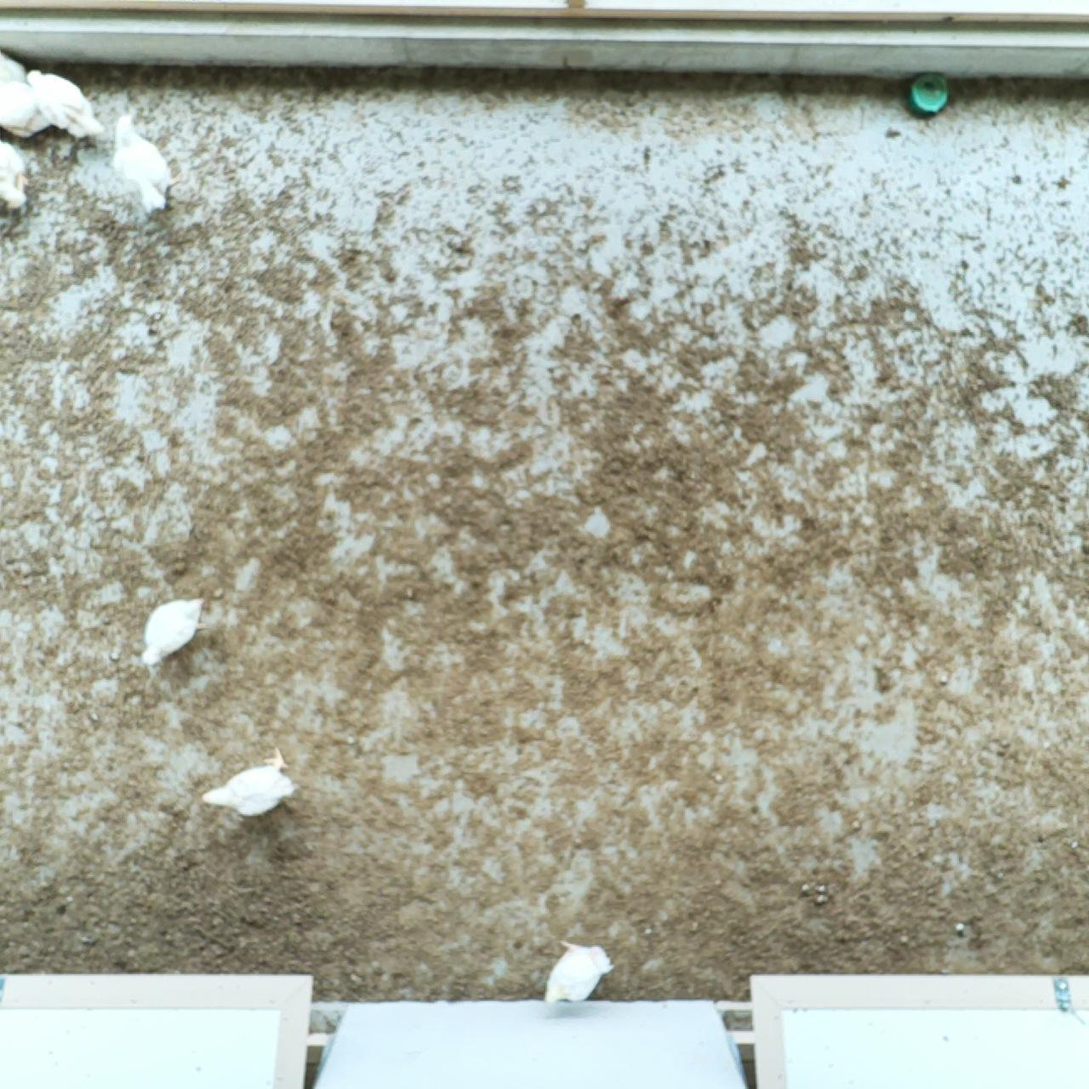chicken: (107, 108, 188, 218), (198, 742, 296, 821), (23, 67, 107, 142), (138, 591, 212, 673), (538, 932, 615, 1008), (0, 76, 53, 142), (0, 136, 31, 218), (0, 51, 35, 93)
